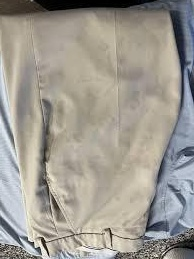oil: (50, 99, 87, 136)
